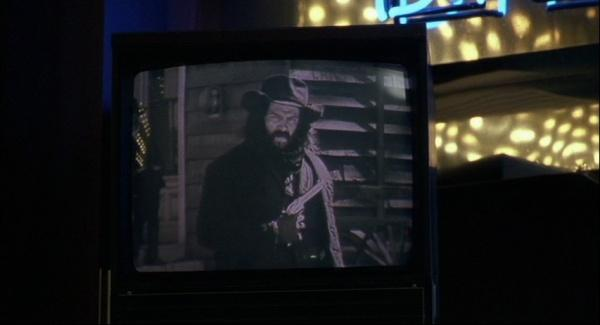Gun: (282, 178, 327, 246)
